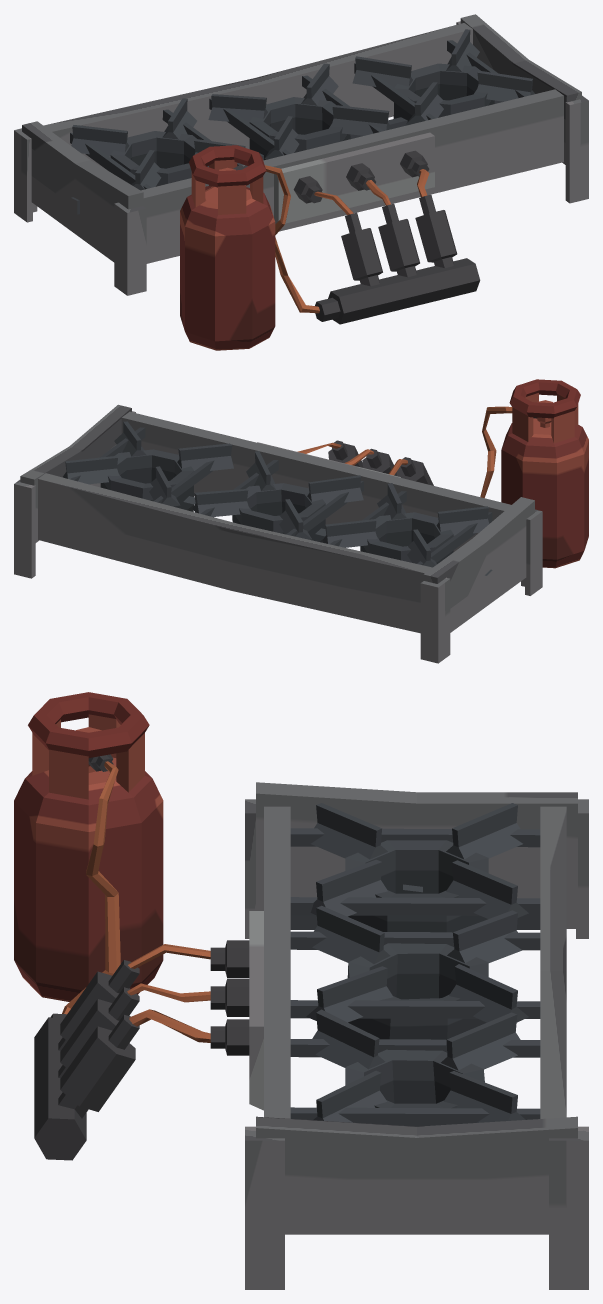
Rendered from SM_Prop_OutdoorGrill_01.glb.
3 views of the same model, one above another, from view 1: azimuth 30°, elevation 25°; view 2: azimuth 150°, elevation 25°; view 3: azimuth 270°, elevation 25° (orthographic). The views are drawn at different scales.
Parts seen in each view (by area): view 1: SM_Prop_OutdoorGrill_01; view 2: SM_Prop_OutdoorGrill_01; view 3: SM_Prop_OutdoorGrill_01.
Part boxes in pixels (box(x1,y1,x2,y2)): SM_Prop_OutdoorGrill_01: box(14, 14, 588, 350); SM_Prop_OutdoorGrill_01: box(14, 379, 588, 663); SM_Prop_OutdoorGrill_01: box(14, 692, 588, 1289).
Size of the model in its own units: 2.51 by 0.9312 by 1.79.
Materials: 1 (1 with a texture image).
